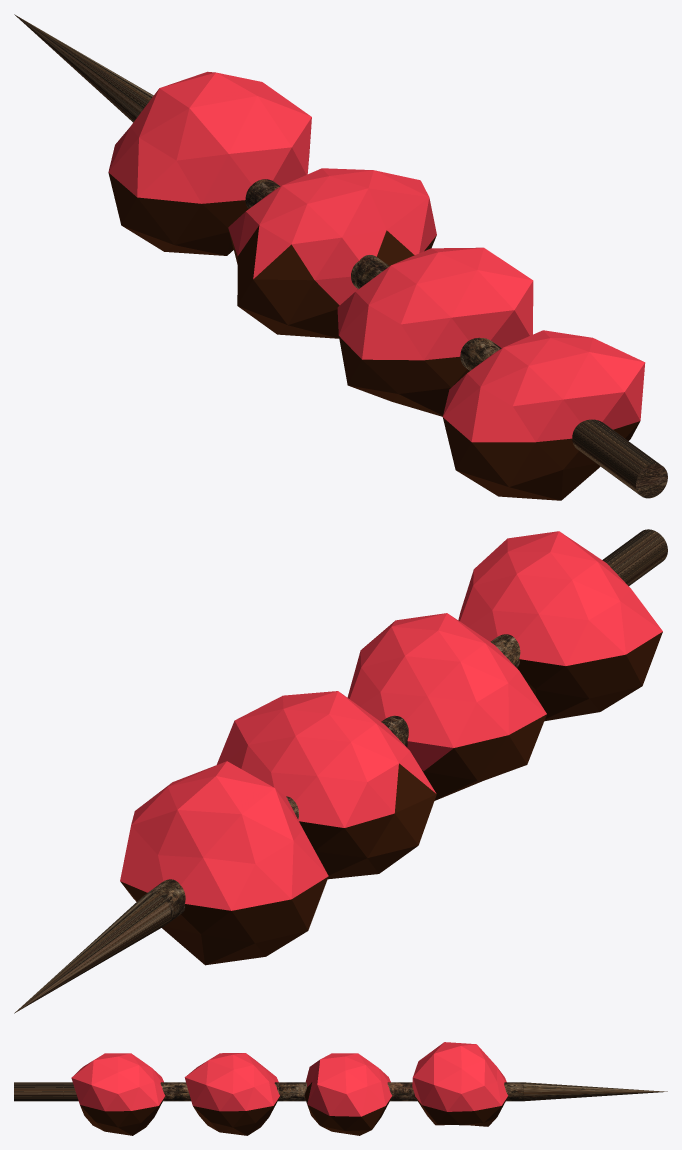
Rendered from SateHalfCooked.gltf.
The picture shows the model from 3 angles, top to bottom: view 1: azimuth 30°, elevation 25°; view 2: azimuth 150°, elevation 25°; view 3: azimuth 270°, elevation 25°; orthographic projection. The views are drawn at different scales.
Parts seen in each view (by area): view 1: Cylinder.005; view 2: Cylinder.005; view 3: Cylinder.005.
Boxes of the visible parts, x1=… form: Cylinder.005: x1=14, y1=14, x2=667, y2=500; Cylinder.005: x1=14, y1=529, x2=667, y2=1013; Cylinder.005: x1=14, y1=1042, x2=667, y2=1135.
Bounding box in the file's own units: 1 × 0.8262 × 5.7.
3 materials, 1 textured.
